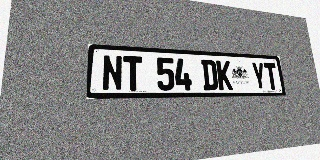4: (174, 58, 192, 90)
5: (156, 57, 175, 91)
D: (201, 59, 218, 90)
K: (216, 60, 233, 90)
N: (102, 55, 123, 91)
T: (123, 56, 143, 91), (263, 63, 279, 90)
Y: (251, 62, 267, 90)
